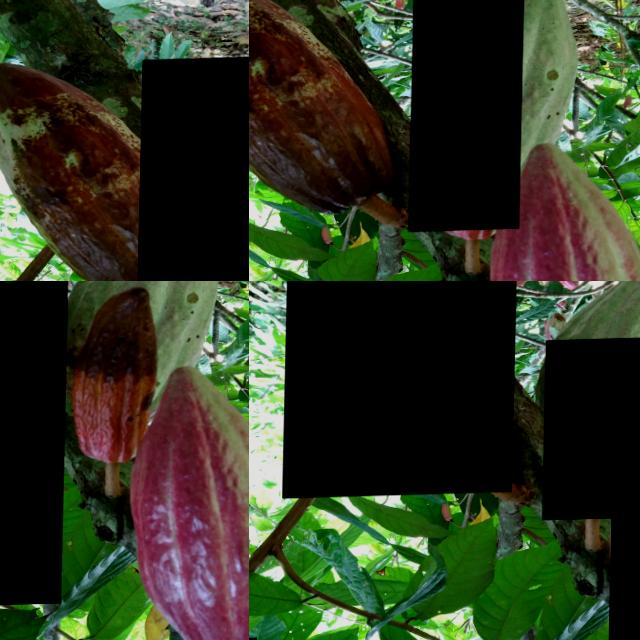Fitoftora: (283, 281, 517, 498), (410, 0, 524, 234), (138, 58, 249, 281), (544, 340, 640, 522)
Monilia: (0, 281, 69, 610)
Sana: (589, 281, 640, 336)
